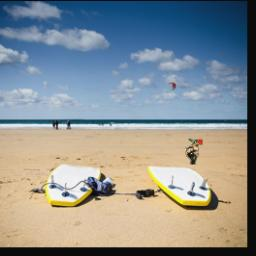Woodpecker: (185, 140, 204, 166)
